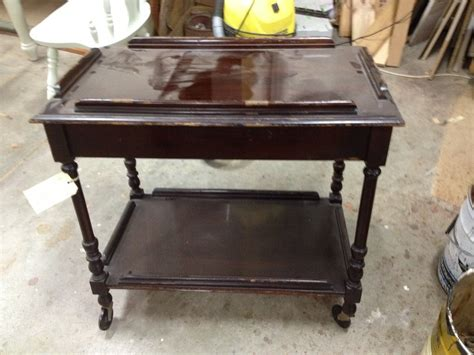Carts: (31, 31, 406, 331)
